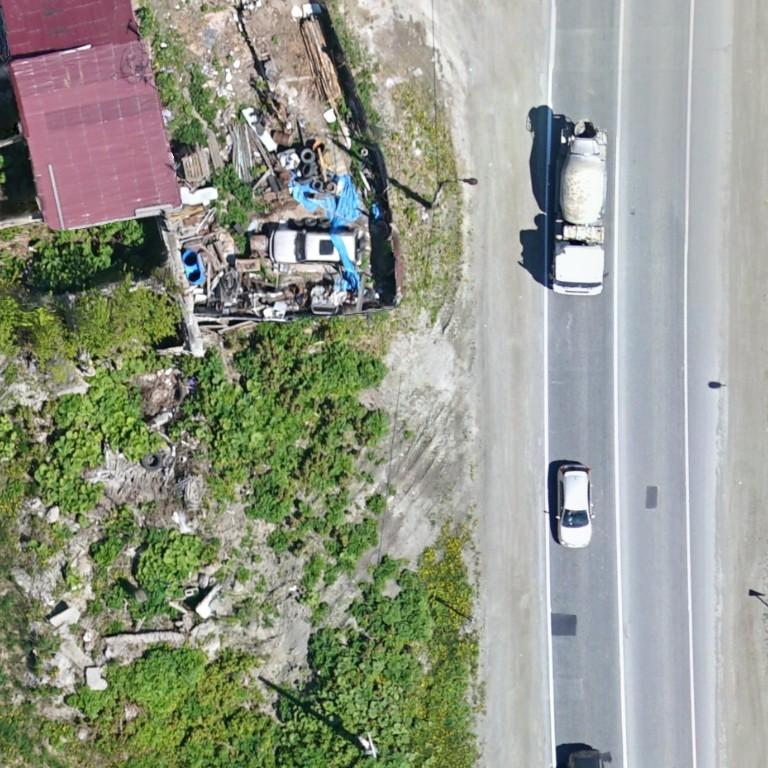hogweed: (187, 319, 385, 550), (308, 555, 432, 682), (67, 649, 205, 712), (213, 165, 251, 202), (135, 584, 172, 616)
